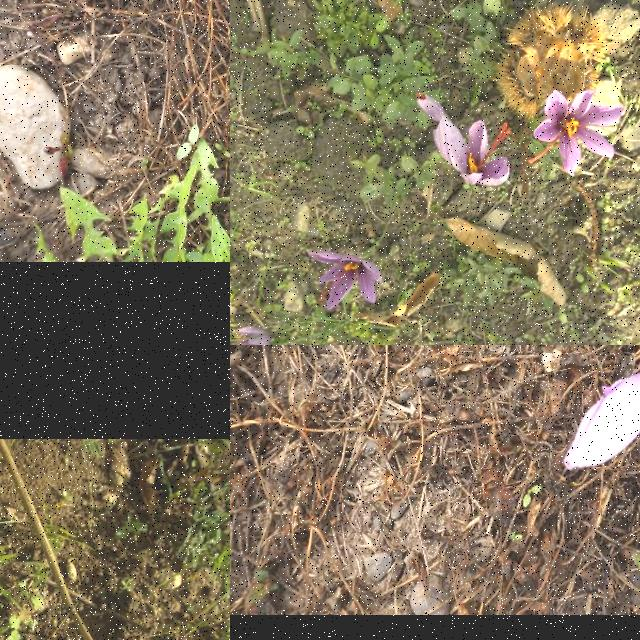flower: (529, 92, 627, 176), (564, 365, 640, 470), (434, 117, 516, 187), (308, 251, 384, 311), (416, 92, 448, 120), (231, 327, 277, 345)
